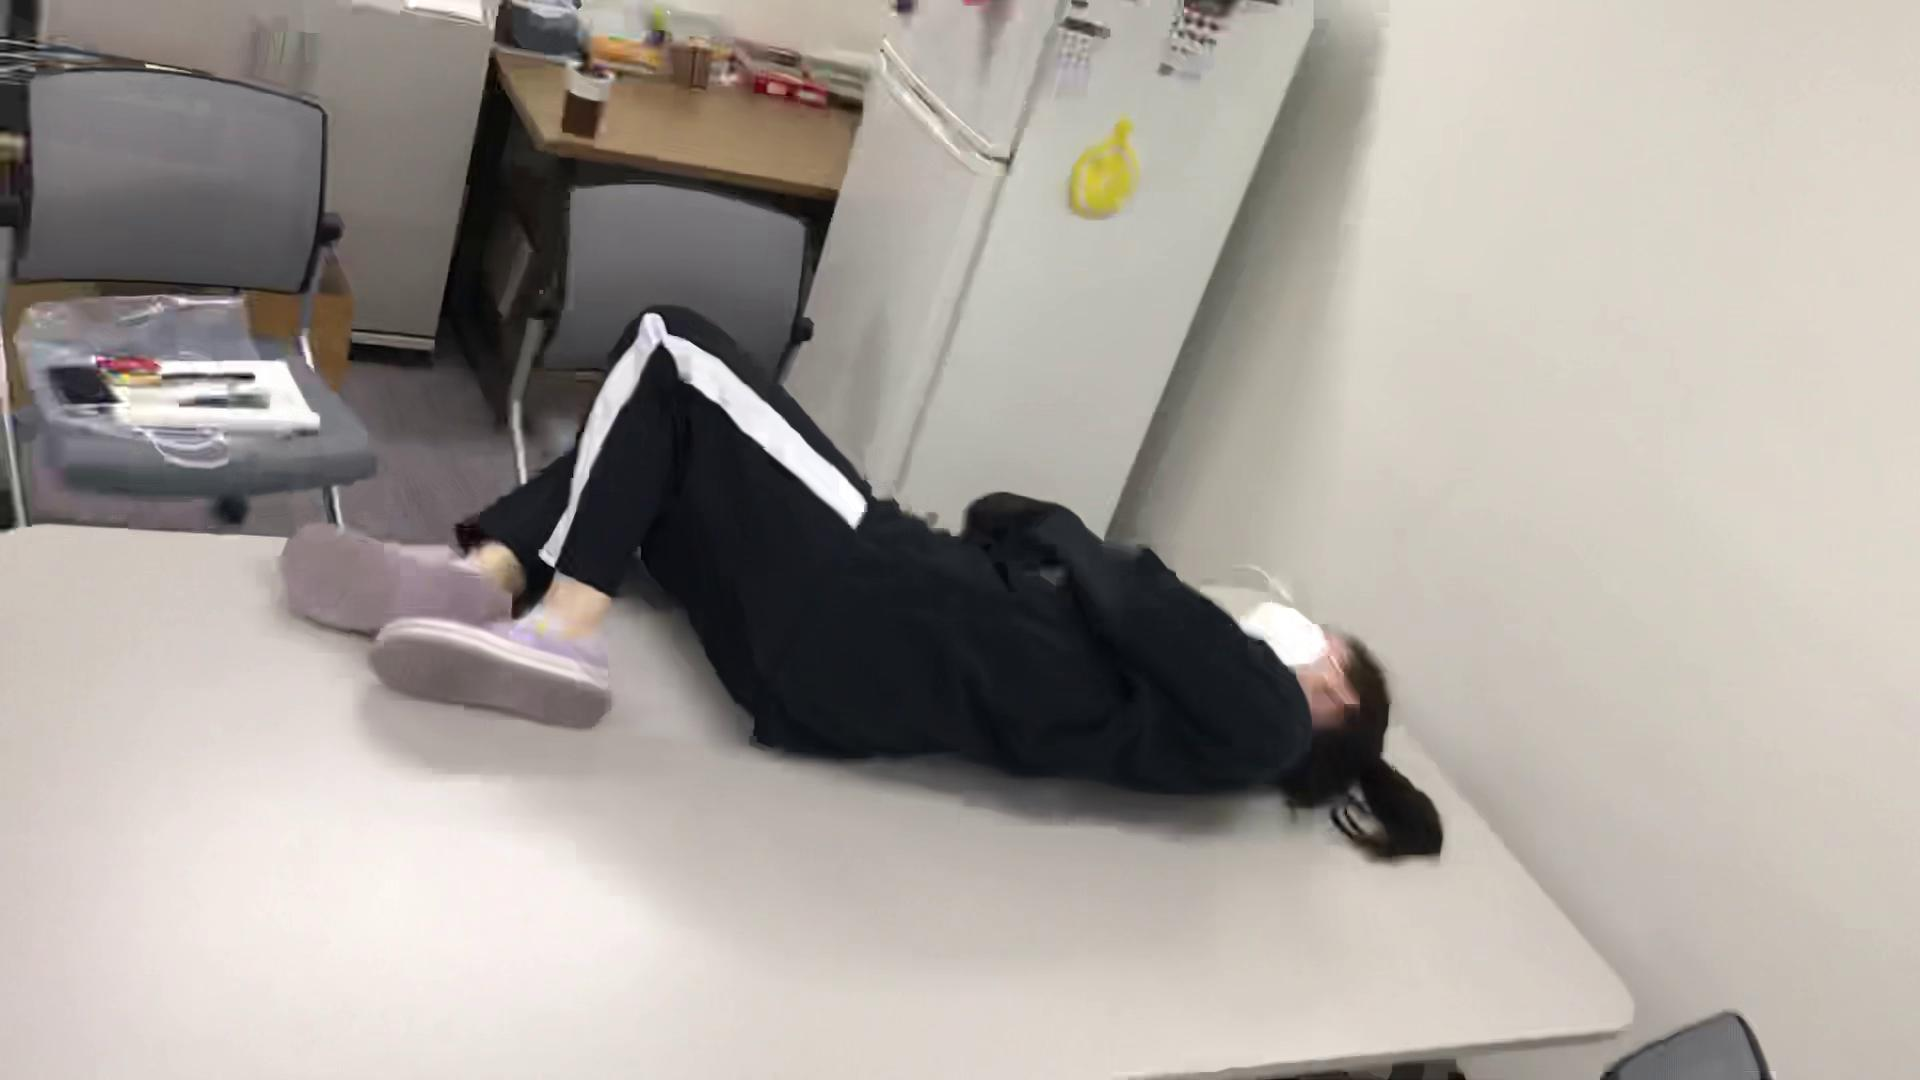sleep: (282, 293, 1391, 808)
